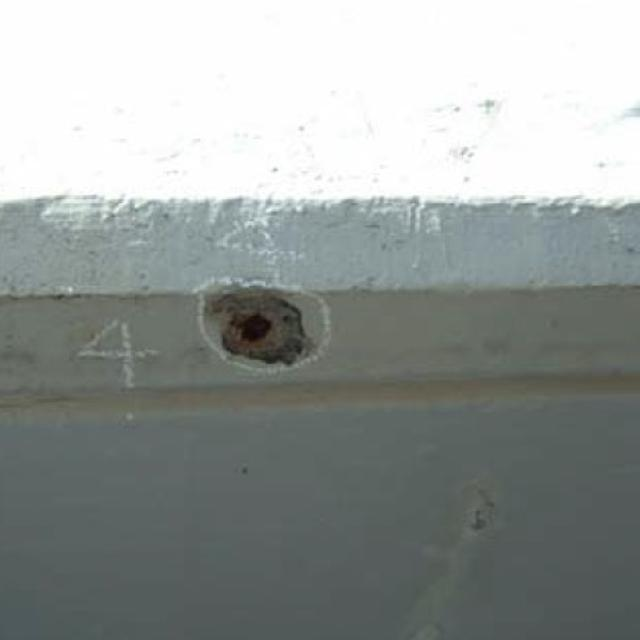spalling: (176, 269, 347, 387)
